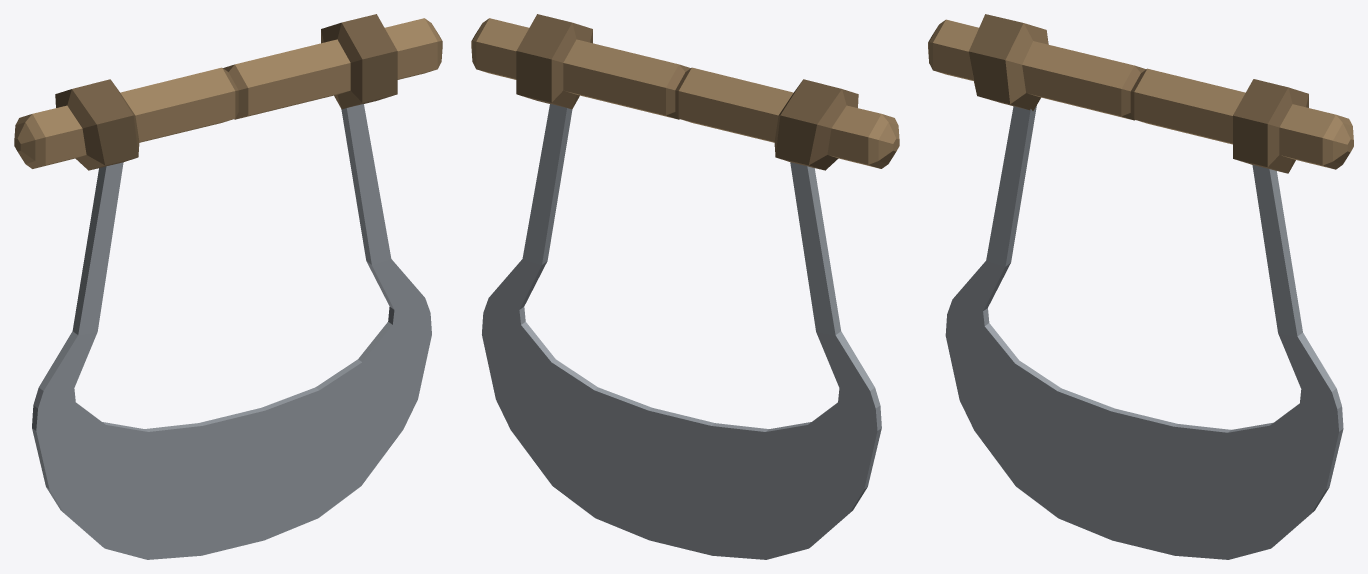
File: WF_LP_HT_Props_Chopper.004.fbx
3 renders of one model, left to right at view 1: azimuth 30°, elevation 25°; view 2: azimuth 150°, elevation 25°; view 3: azimuth 330°, elevation 25°, orthographic.
Parts seen in each view (by area): view 1: WF_LP_HT_Props_Chopper.004; view 2: WF_LP_HT_Props_Chopper.004; view 3: WF_LP_HT_Props_Chopper.004.
Boxes of the visible parts, x1,y1,x2,y2 form: WF_LP_HT_Props_Chopper.004: (14, 14, 442, 559); WF_LP_HT_Props_Chopper.004: (471, 14, 899, 559); WF_LP_HT_Props_Chopper.004: (928, 14, 1353, 559).
Size of the model in its own units: 0.2328 by 0.2627 by 0.0397.
